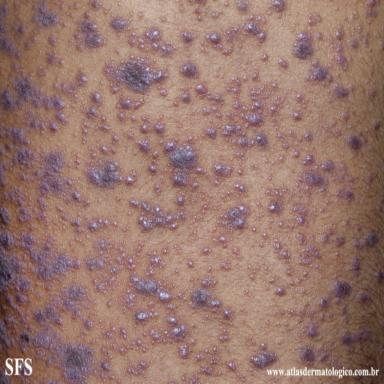lichen: (0, 145, 89, 206), (19, 325, 95, 384), (0, 63, 67, 123), (20, 233, 80, 290), (85, 237, 144, 293), (226, 78, 277, 125), (104, 55, 167, 93), (34, 283, 90, 325), (163, 135, 205, 187), (0, 244, 31, 305), (130, 199, 186, 232), (0, 295, 31, 354), (222, 15, 266, 55), (25, 1, 60, 49), (0, 110, 46, 144), (128, 28, 175, 57), (129, 272, 172, 302), (221, 123, 268, 149), (74, 12, 105, 51), (0, 5, 22, 59), (84, 156, 122, 187), (53, 70, 87, 101), (93, 348, 121, 384), (300, 342, 337, 365), (218, 204, 250, 230), (189, 288, 221, 312), (109, 338, 148, 355), (164, 316, 188, 343), (195, 83, 223, 105), (299, 172, 328, 191), (306, 60, 332, 81), (341, 327, 371, 345), (293, 33, 313, 59), (4, 186, 27, 207), (288, 306, 316, 323), (299, 245, 321, 265), (13, 1, 25, 35), (354, 232, 378, 249), (333, 280, 351, 302), (251, 352, 277, 367), (121, 289, 137, 313), (0, 231, 20, 250), (117, 96, 144, 109), (85, 218, 109, 232), (274, 240, 290, 260), (149, 327, 167, 344), (291, 205, 307, 224), (127, 361, 148, 375), (180, 62, 198, 78), (206, 31, 222, 49), (80, 316, 94, 336), (149, 251, 165, 268), (205, 347, 220, 365), (193, 204, 208, 222), (110, 17, 129, 31), (269, 97, 283, 116), (267, 0, 285, 14), (17, 207, 32, 223), (47, 51, 64, 65), (214, 163, 232, 176), (336, 188, 354, 201), (134, 309, 149, 324), (366, 0, 379, 17), (307, 12, 322, 26), (0, 207, 11, 226), (37, 210, 49, 227), (83, 107, 98, 120), (334, 84, 349, 97), (71, 218, 84, 233), (336, 54, 348, 70), (201, 276, 217, 288), (351, 257, 361, 276), (265, 189, 283, 199), (137, 139, 150, 152), (102, 326, 115, 339), (349, 136, 361, 150), (268, 201, 282, 213), (319, 295, 331, 309), (125, 171, 137, 185), (35, 197, 47, 210), (149, 301, 158, 318), (179, 344, 189, 359), (181, 31, 193, 43), (307, 324, 318, 337), (91, 92, 101, 106), (205, 127, 217, 138), (219, 329, 229, 342), (303, 154, 314, 165), (155, 121, 164, 134), (322, 161, 335, 170), (194, 7, 202, 21), (363, 30, 370, 46), (181, 91, 191, 102), (37, 66, 47, 77), (237, 0, 247, 11), (223, 309, 233, 320), (245, 337, 256, 347), (358, 294, 370, 303), (368, 88, 377, 100), (95, 124, 110, 131), (81, 121, 89, 134), (119, 327, 127, 340), (349, 38, 359, 48), (283, 187, 293, 197), (90, 0, 101, 9), (49, 121, 58, 132), (234, 183, 245, 192), (146, 265, 155, 276), (190, 373, 199, 384), (211, 9, 223, 17), (201, 367, 213, 375), (377, 270, 384, 283), (151, 151, 158, 164), (189, 0, 207, 5), (278, 59, 288, 68), (48, 36, 57, 46), (335, 237, 345, 246), (275, 286, 285, 295), (175, 196, 184, 206), (195, 353, 205, 362), (335, 29, 343, 40), (201, 42, 209, 53), (154, 183, 161, 195), (297, 234, 305, 244), (221, 261, 231, 269), (149, 164, 157, 174), (227, 361, 235, 371), (0, 145, 7, 156), (75, 154, 80, 169), (203, 106, 211, 115), (140, 124, 148, 133), (293, 111, 301, 120), (373, 120, 381, 129), (203, 246, 211, 255), (179, 0, 185, 12), (252, 71, 259, 81), (261, 53, 269, 61), (295, 93, 303, 101), (305, 133, 313, 141), (327, 227, 335, 235), (191, 182, 199, 190), (260, 342, 267, 351), (142, 115, 151, 122), (167, 304, 176, 311), (342, 111, 349, 120), (160, 89, 167, 97), (118, 113, 125, 121), (322, 235, 329, 243), (219, 236, 227, 243), (112, 135, 119, 143), (101, 146, 108, 154), (122, 225, 130, 232), (240, 307, 247, 315), (5, 143, 12, 151), (227, 111, 233, 120), (175, 244, 181, 253), (317, 31, 323, 40), (137, 11, 143, 20), (89, 339, 99, 344), (215, 111, 222, 118), (277, 132, 284, 139), (162, 247, 169, 254), (302, 270, 308, 278), (341, 306, 347, 314), (283, 141, 289, 149), (233, 247, 239, 255), (343, 316, 349, 324), (110, 146, 116, 154), (245, 289, 251, 297), (28, 197, 32, 209), (29, 223, 35, 231), (337, 44, 343, 52), (73, 2, 79, 10), (235, 152, 244, 157), (173, 100, 179, 107), (211, 106, 217, 113), (285, 270, 292, 276), (127, 132, 133, 139), (61, 214, 67, 221), (59, 3, 65, 10), (319, 313, 324, 321), (131, 115, 137, 121), (277, 221, 283, 227), (328, 312, 334, 318), (293, 151, 299, 157), (61, 21, 67, 27), (161, 17, 167, 23), (263, 233, 268, 240), (188, 261, 193, 268), (107, 300, 112, 307), (235, 370, 240, 377), (280, 309, 285, 316), (224, 1, 229, 7), (289, 281, 295, 286), (301, 288, 306, 294), (269, 278, 275, 283), (190, 339, 196, 344), (113, 221, 118, 227), (241, 373, 245, 380), (82, 137, 86, 144), (243, 75, 247, 82), (101, 116, 106, 121), (252, 227, 257, 232), (296, 278, 301, 283), (238, 169, 243, 174), (92, 300, 97, 305), (305, 301, 309, 307), (33, 207, 37, 213), (223, 243, 227, 249), (270, 218, 274, 223), (256, 265, 260, 270), (265, 321, 270, 325), (207, 267, 211, 272), (91, 153, 96, 157), (127, 211, 131, 216), (182, 376, 186, 381), (249, 367, 253, 372), (259, 243, 263, 247), (250, 275, 254, 279), (175, 269, 179, 273), (191, 323, 195, 327), (143, 332, 147, 336), (70, 12, 73, 17), (218, 371, 221, 375), (69, 6, 73, 9), (248, 265, 251, 268), (191, 278, 194, 281), (205, 314, 208, 317), (66, 12, 69, 15), (253, 270, 255, 273)
